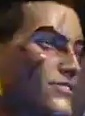kevin: (7, 0, 84, 115)
